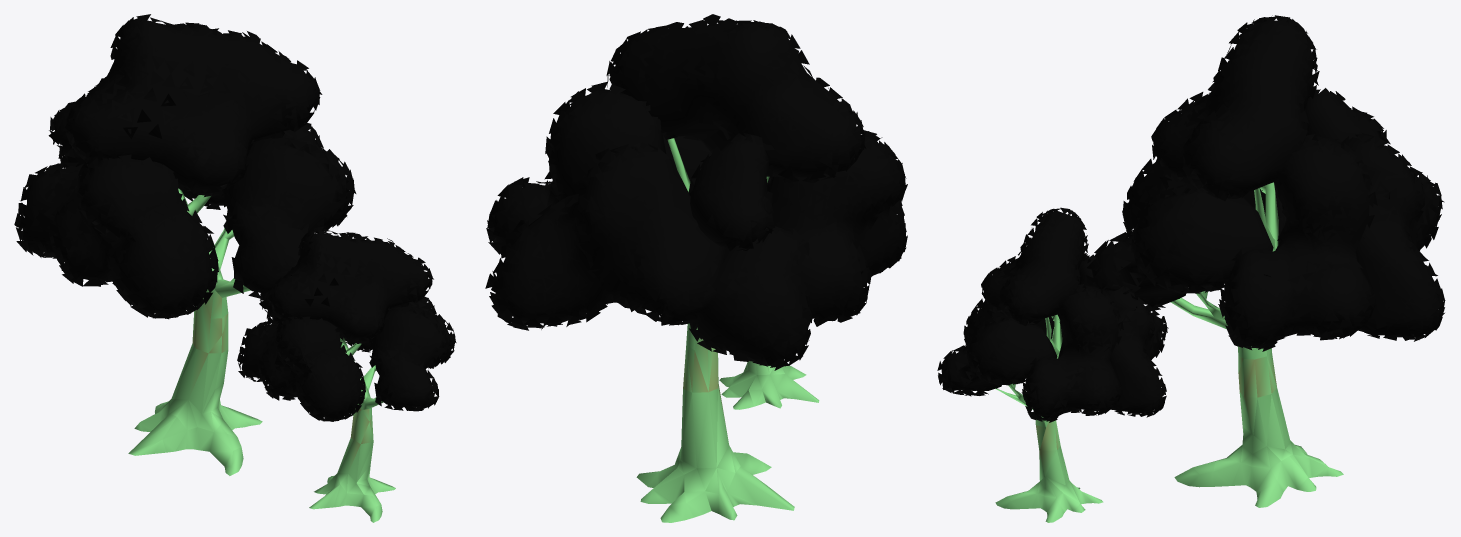
The model's file is SM_ENV_LKNVLD_TreeSet_P_Lod1.gltf.
3 renders of one model, left to right at view 1: azimuth 30°, elevation 25°; view 2: azimuth 150°, elevation 25°; view 3: azimuth 270°, elevation 25°, orthographic. The views are drawn at different scales.
Visible parts, largest first — view 1: SM_ENV_LKNVLD_TreeSet_P_Lod1; view 2: SM_ENV_LKNVLD_TreeSet_P_Lod1; view 3: SM_ENV_LKNVLD_TreeSet_P_Lod1.
Boxes of the visible parts, x1,y1,x2,y2 form: SM_ENV_LKNVLD_TreeSet_P_Lod1: [14, 14, 456, 522]; SM_ENV_LKNVLD_TreeSet_P_Lod1: [485, 14, 907, 522]; SM_ENV_LKNVLD_TreeSet_P_Lod1: [937, 15, 1445, 522].
Bounding box in the file's own units: 13.72 × 19.04 × 19.79.
